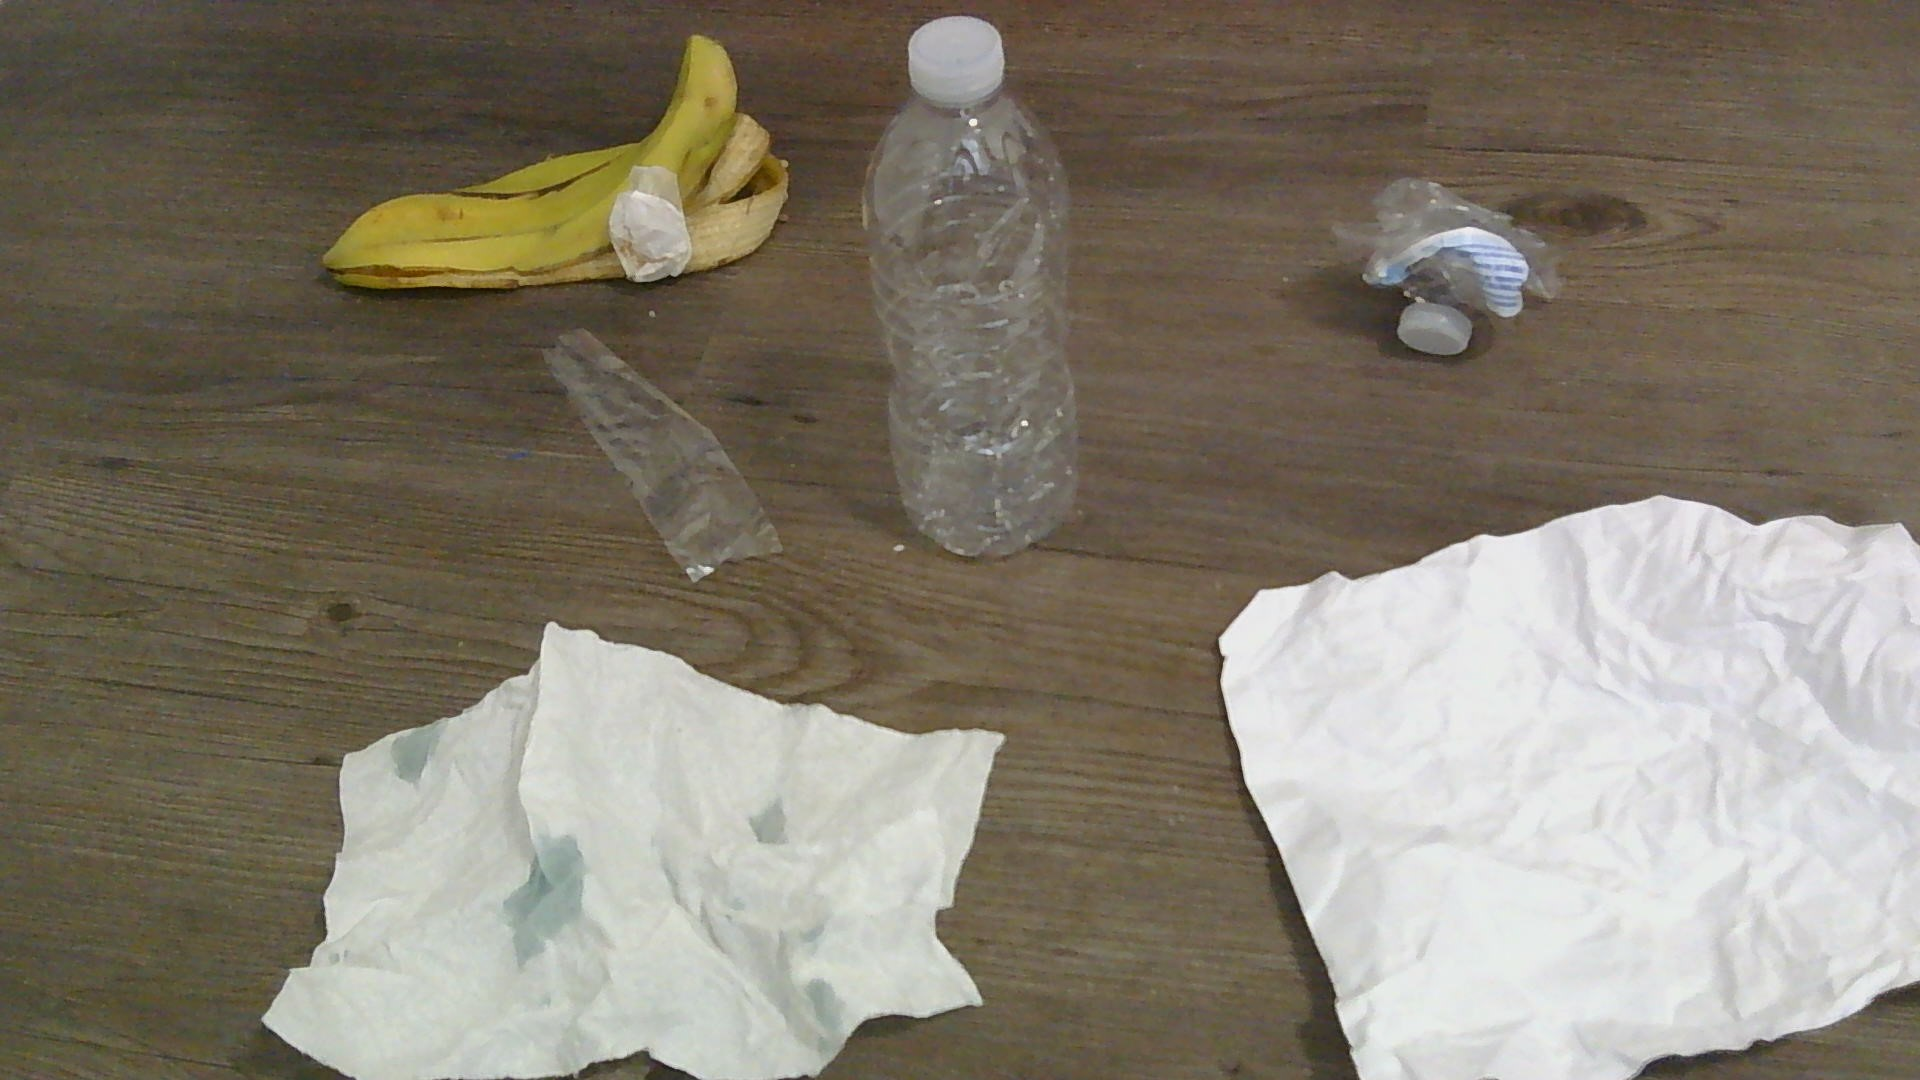banana peel: (318, 30, 795, 291)
bottle: (858, 7, 1083, 555)
crushed bottle: (1327, 174, 1563, 363)
napkin: (270, 618, 1000, 1080)
paper: (1218, 498, 1917, 1080)
plastic piece: (546, 330, 783, 579)
